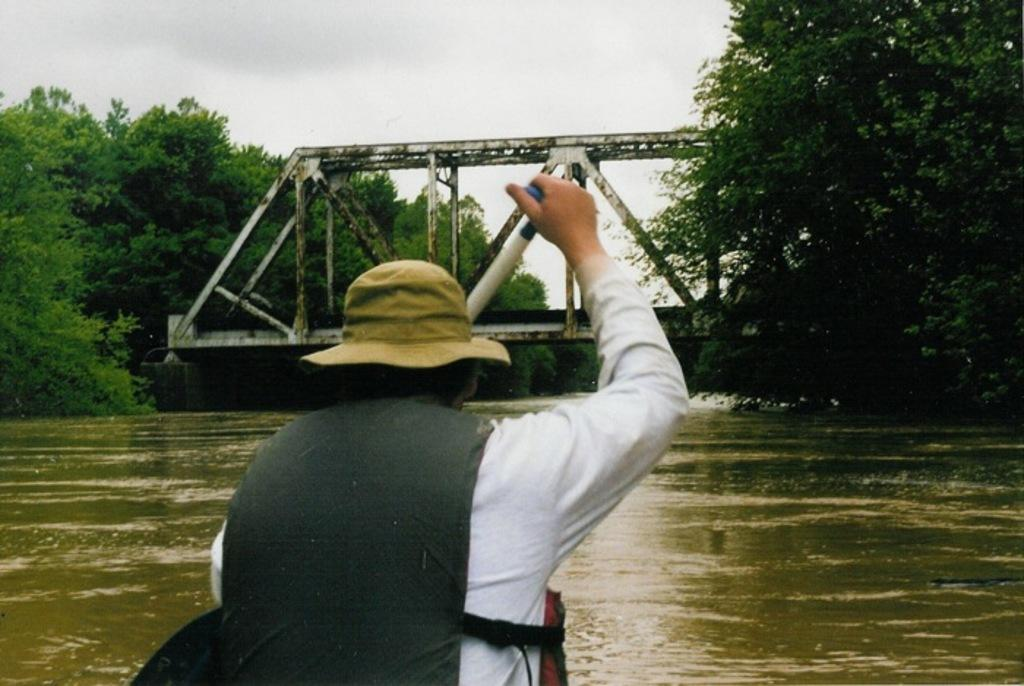Hat: (298, 255, 513, 371)
